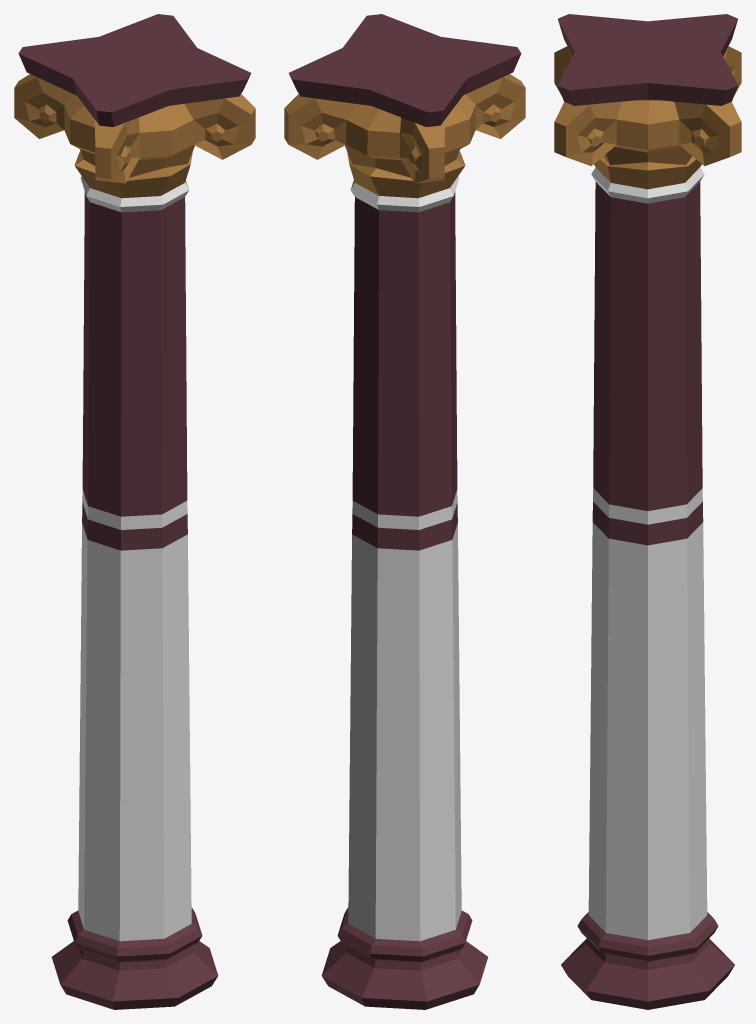
The model's file is SM_Pillar_Composite_Medium_Color_Empire.fbx.
3 renders of one model, left to right at view 1: azimuth 30°, elevation 25°; view 2: azimuth 150°, elevation 25°; view 3: azimuth 270°, elevation 25°, orthographic.
Parts seen in each view (by area): view 1: SM_Pillar_Composite_Medium_Color_Empire; view 2: SM_Pillar_Composite_Medium_Color_Empire; view 3: SM_Pillar_Composite_Medium_Color_Empire.
Part boxes in pixels (box(x1,y1,x2,y2)): SM_Pillar_Composite_Medium_Color_Empire: box(14, 14, 255, 1009); SM_Pillar_Composite_Medium_Color_Empire: box(284, 14, 525, 1009); SM_Pillar_Composite_Medium_Color_Empire: box(554, 14, 741, 1009).
Bounding box in the file's own units: 1.1 × 6 × 1.1.
